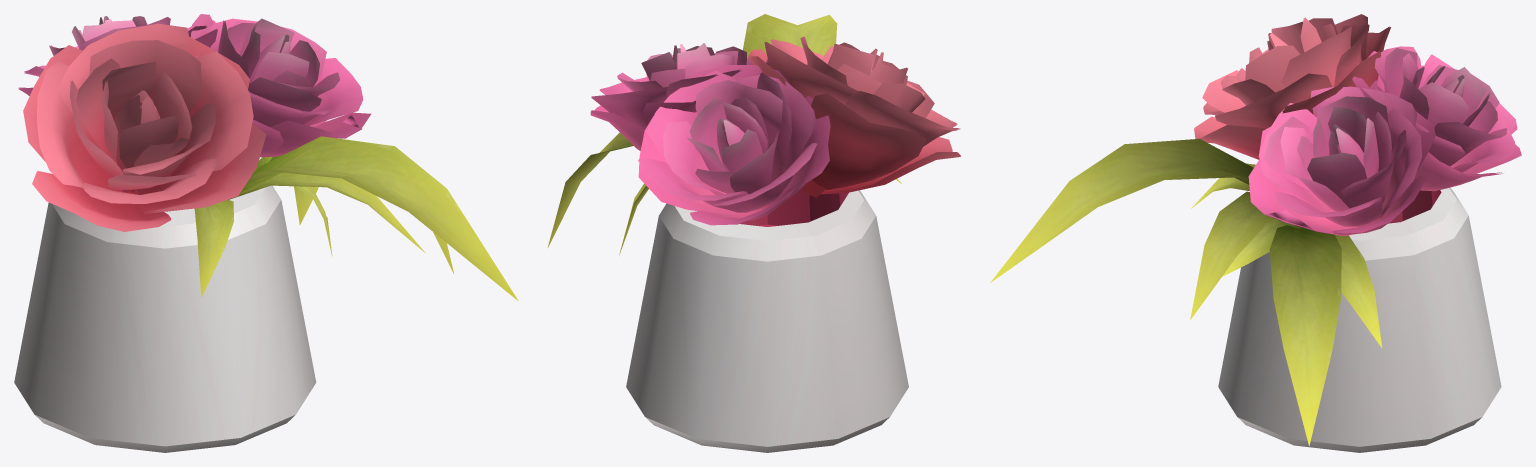
The model's file is Doll_OB_Pot_002.FBX.
The picture shows the model from 3 angles, left to right: view 1: azimuth 30°, elevation 25°; view 2: azimuth 150°, elevation 25°; view 3: azimuth 270°, elevation 25°; orthographic projection. The views are drawn at different scales.
Parts seen in each view (by area): view 1: Doll_OB_Pot_002; view 2: Doll_OB_Pot_002; view 3: Doll_OB_Pot_002.
Boxes of the visible parts, x1,y1,x2,y2 form: Doll_OB_Pot_002: (14,14,518,452); Doll_OB_Pot_002: (547,14,960,452); Doll_OB_Pot_002: (990,14,1521,452).
Size of the model in its own units: 34.54 by 28.67 by 39.43.
Materials: 1 (1 with a texture image).
